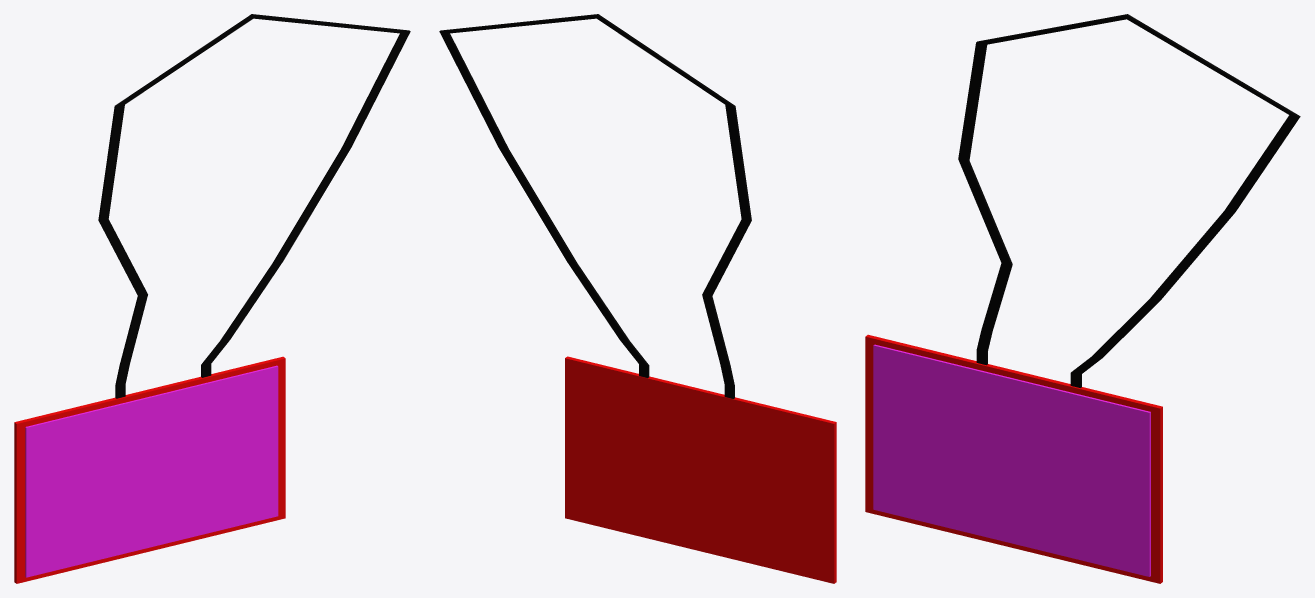
The model's file is IdCard_Prop.fbx.
3 views of the same model, side by side, from view 1: azimuth 30°, elevation 25°; view 2: azimuth 150°, elevation 25°; view 3: azimuth 330°, elevation 25° (orthographic). The views are drawn at different scales.
Parts seen in each view (by area): view 1: Box002; view 2: Box002; view 3: Box002.
Part boxes in pixels (<box>): Box002: <box>14,14,410,583</box>; Box002: <box>439,14,836,583</box>; Box002: <box>865,14,1300,583</box>.
Bounding box in the file's own units: 472 × 583 × 7.6.
